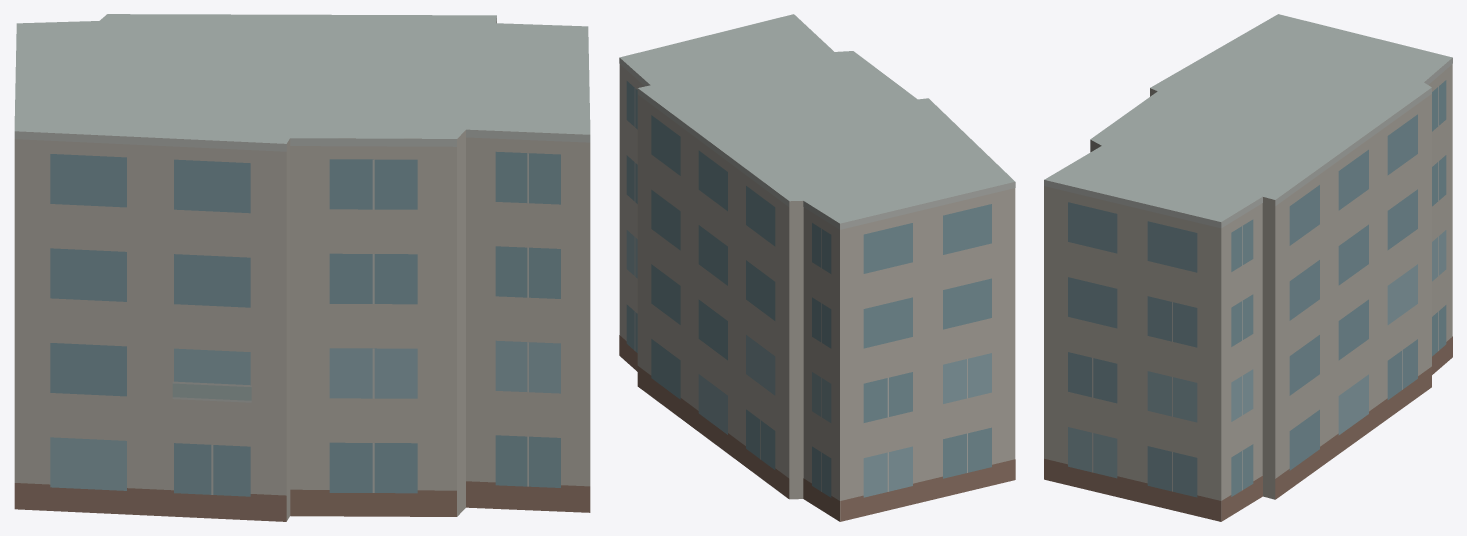
File: survey-upis-32970668.glb
The picture shows the model from 3 angles, left to right: view 1: azimuth 30°, elevation 25°; view 2: azimuth 150°, elevation 25°; view 3: azimuth 270°, elevation 25°; orthographic projection. The views are drawn at different scales.
Parts seen in each view (by area): view 1: survey-upis-32970668.tmp; view 2: survey-upis-32970668.tmp; view 3: survey-upis-32970668.tmp.
Boxes of the visible parts, x1,y1,x2,y2 form: survey-upis-32970668.tmp: (14, 14, 590, 521); survey-upis-32970668.tmp: (619, 14, 1015, 521); survey-upis-32970668.tmp: (1044, 14, 1452, 521).
Bounding box in the file's own units: 17.43 × 11.7 × 14.47.
